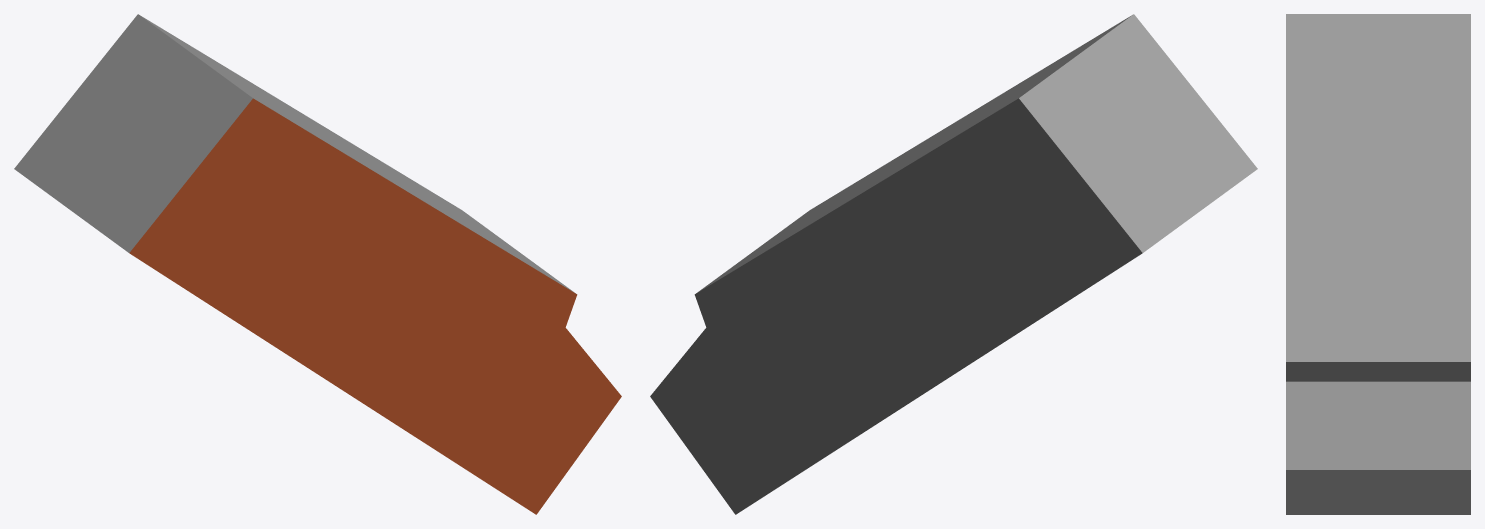
The model's file is construction_5929_assumed_A_Casa_h6m.obj.
3 views of the same model, side by side, from view 1: azimuth 30°, elevation 25°; view 2: azimuth 150°, elevation 25°; view 3: azimuth 270°, elevation 25° (orthographic). The views are drawn at different scales.
Visible parts, largest first — view 1: construction_5929_assumed_A_Casa; view 2: construction_5929_assumed_A_Casa; view 3: construction_5929_assumed_A_Casa.
Part boxes in pixels (box(x1,y1,x2,y2)): construction_5929_assumed_A_Casa: box(14, 14, 621, 514); construction_5929_assumed_A_Casa: box(650, 14, 1257, 514); construction_5929_assumed_A_Casa: box(1286, 14, 1470, 514).
Size of the model in its own units: 14.82 by 13.96 by 6.
